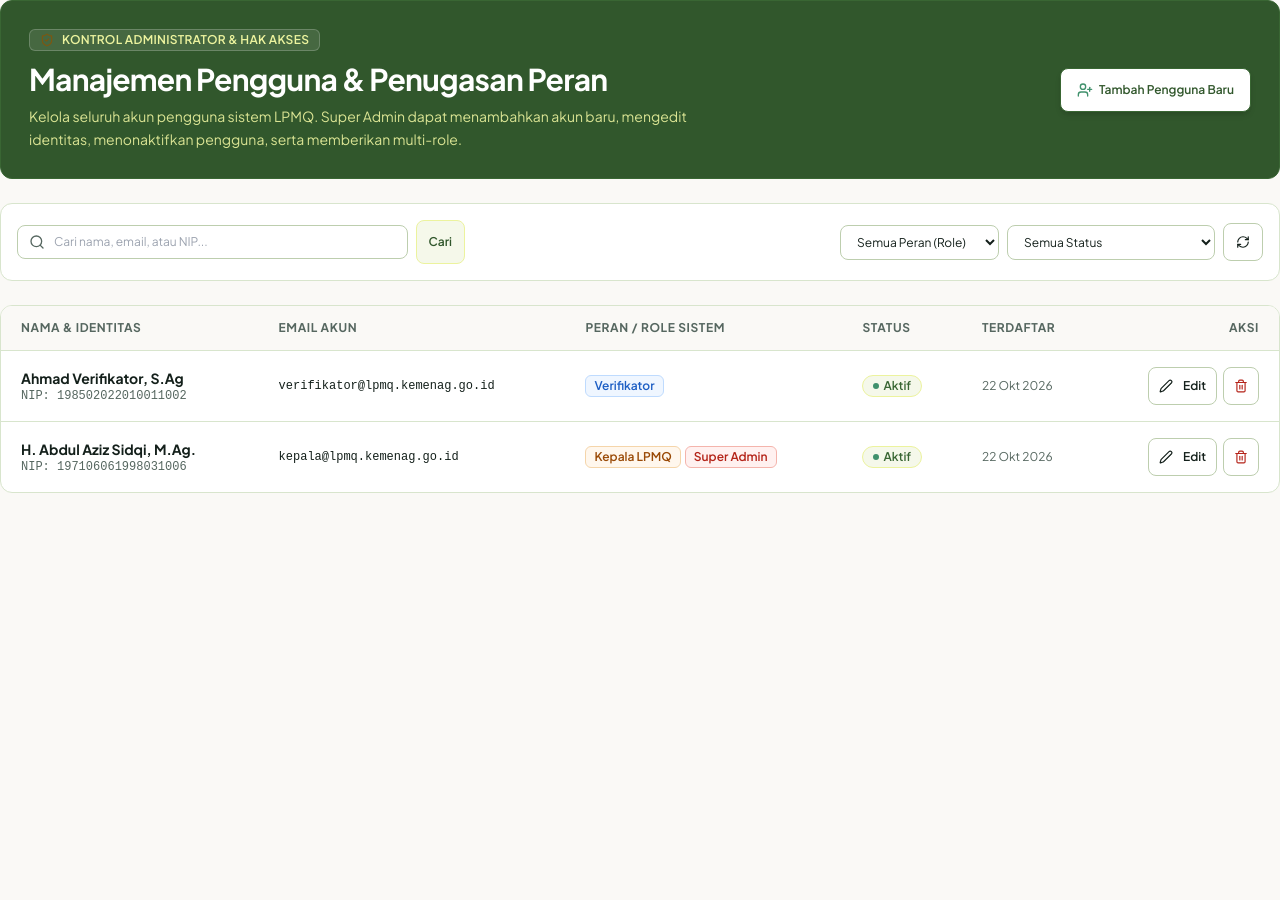
UserManagementPage Component › dapat membuka modal Tambah Pengguna Baru dan menampilkan opsi multi-role
Expected: the text "Ahmad Verifikator, S.Ag" is shown, x1=21 y1=369 x2=184 y2=387
Click the button "Tambah Pengguna Baru": (1155,90) x1=1060 y1=68 x2=1251 y2=112
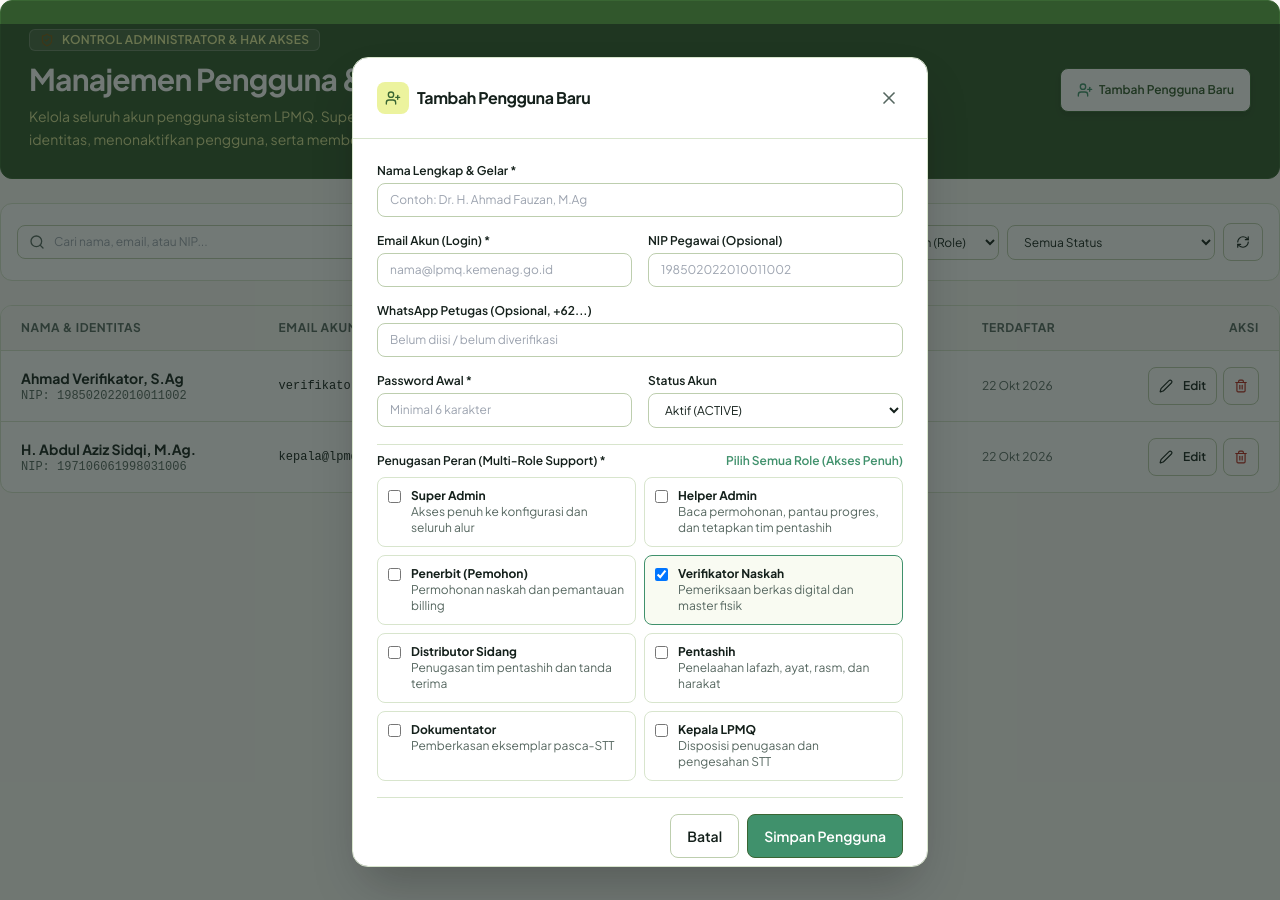
Result: the field with placeholder "Contoh: Dr. H. Ahmad Fauzan, M.Ag" is shown at x1=377 y1=183 x2=903 y2=217
Result: the button "Pilih Semua Role (Akses Penuh)" is shown at x1=726 y1=453 x2=903 y2=469
